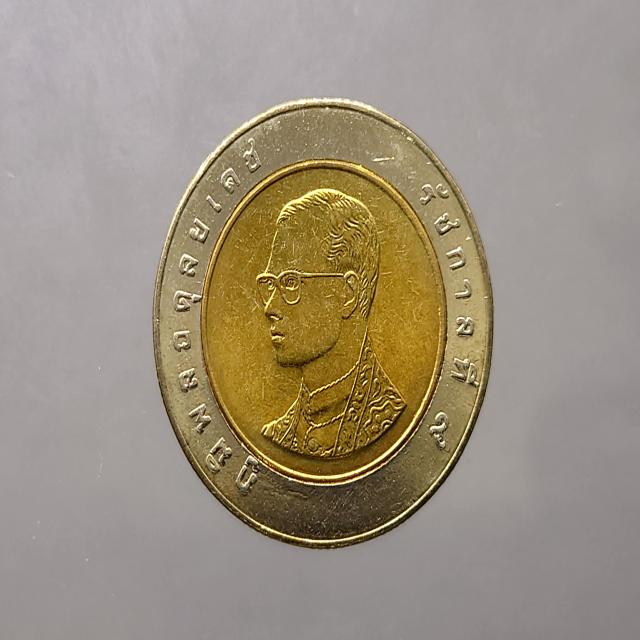10 Bath: (151, 101, 496, 554)
